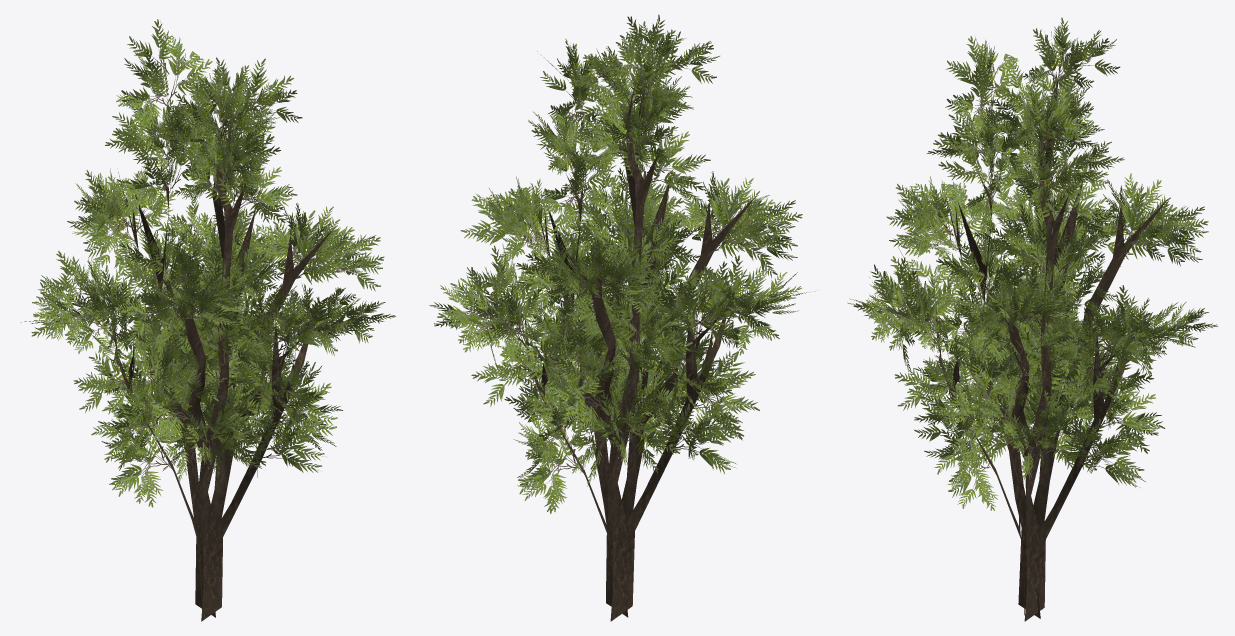
Rendered from tree-1-near.glb.
3 renders of one model, left to right at view 1: azimuth 30°, elevation 25°; view 2: azimuth 150°, elevation 25°; view 3: azimuth 270°, elevation 25°, orthographic. The views are drawn at different scales.
Visible parts, largest first — view 1: Object_5346.001, Object_5344.001; view 2: Object_5346.001, Object_5344.001; view 3: Object_5346.001, Object_5344.001.
Boxes of the visible parts, bbox=[...] form: Object_5346.001: bbox=[21, 19, 395, 507]; Object_5344.001: bbox=[75, 115, 333, 621]; Object_5346.001: bbox=[429, 14, 815, 513]; Object_5344.001: bbox=[491, 83, 755, 621]; Object_5346.001: bbox=[847, 17, 1217, 510]; Object_5344.001: bbox=[901, 74, 1167, 621].
Bounding box in the file's own units: 4.86 × 8 × 4.61.
2 materials, 2 textured.
